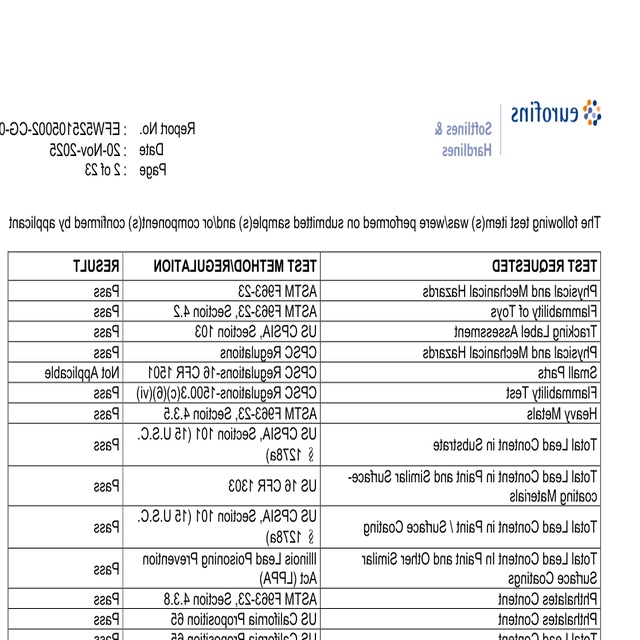eurofins: (508, 96, 608, 131)
